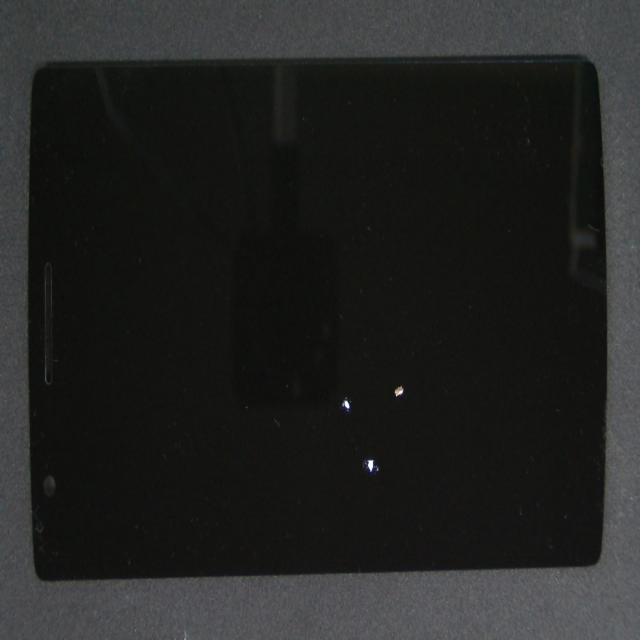stain: (198, 221, 594, 640), (176, 216, 531, 640), (171, 165, 494, 586)
